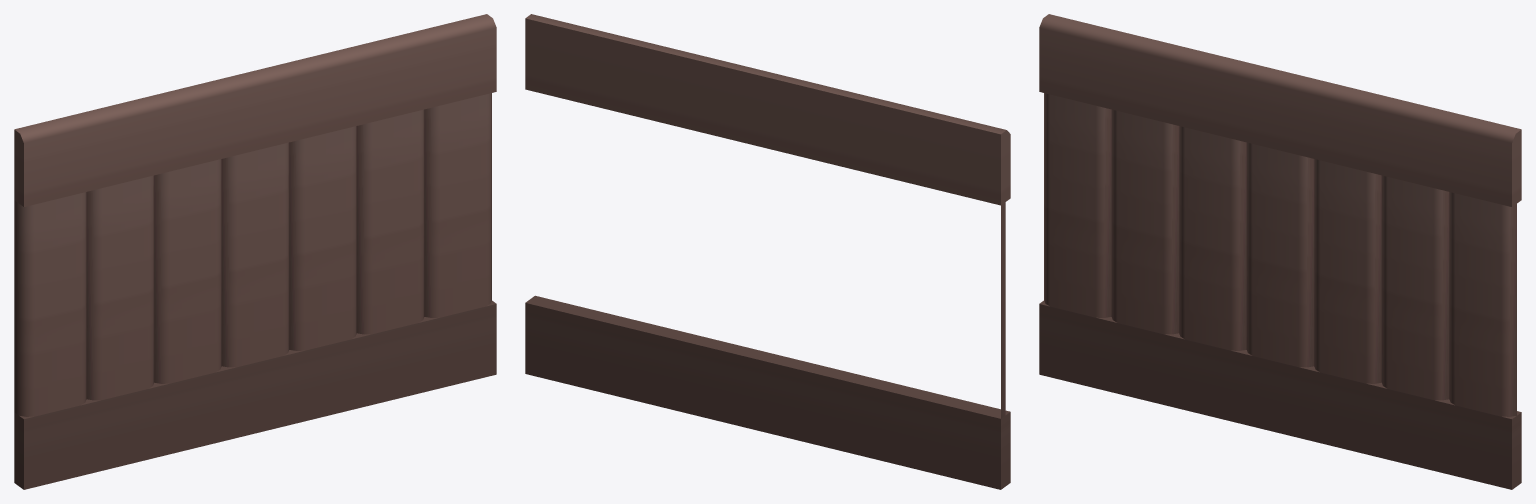
File: Panel_Brown_03.glb
3 renders of one model, left to right at view 1: azimuth 30°, elevation 25°; view 2: azimuth 150°, elevation 25°; view 3: azimuth 330°, elevation 25°, orthographic.
Visible parts, largest first — view 1: Panel_Brown_03; view 2: Panel_Brown_03; view 3: Panel_Brown_03.
Part boxes in pixels (x1,y1,x2,y2): Panel_Brown_03: (14, 14, 496, 489); Panel_Brown_03: (525, 14, 1010, 489); Panel_Brown_03: (1039, 14, 1521, 489).
Bounding box in the file's own units: 1.4 × 1 × 0.05.
Materials: 1 (1 with a texture image).
